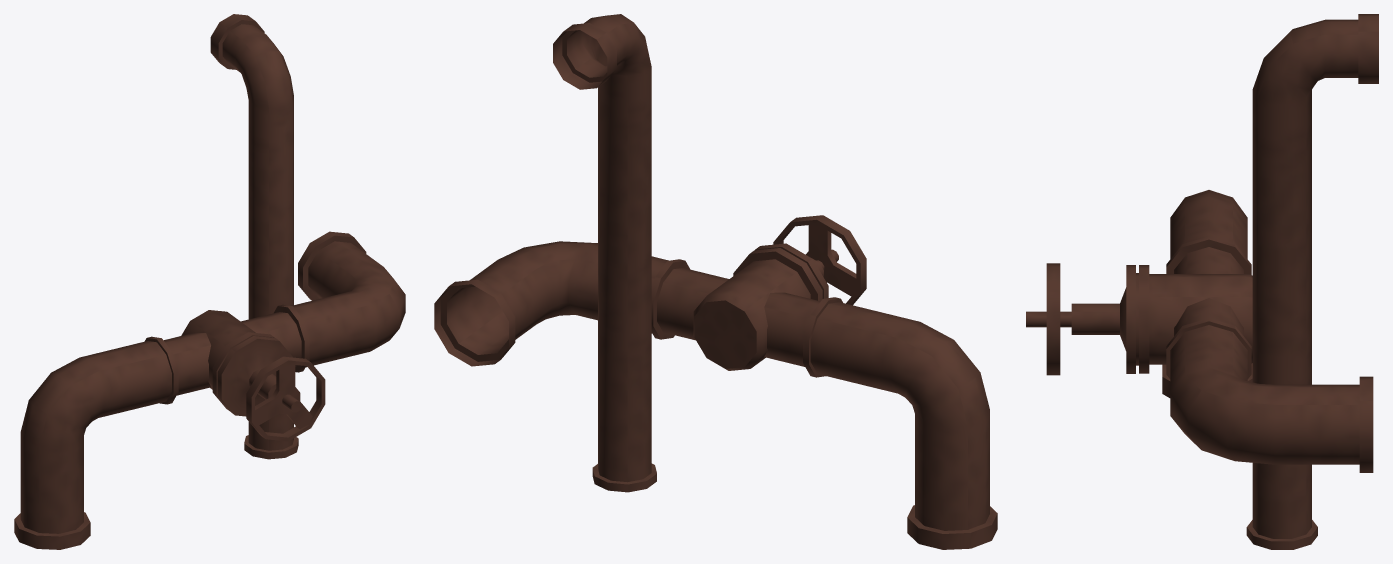
The model's file is TwoWendingPipes.fbx.
The picture shows the model from 3 angles, left to right: view 1: azimuth 30°, elevation 25°; view 2: azimuth 150°, elevation 25°; view 3: azimuth 270°, elevation 25°; orthographic projection. The views are drawn at different scales.
Parts seen in each view (by area): view 1: Куб.007; view 2: Куб.007; view 3: Куб.007.
Part boxes in pixels (x1,y1,x2,y2): Куб.007: (14, 14, 405, 549); Куб.007: (434, 14, 997, 549); Куб.007: (1026, 14, 1378, 549).
Bounding box in the file's own units: 572 × 553 × 337.
